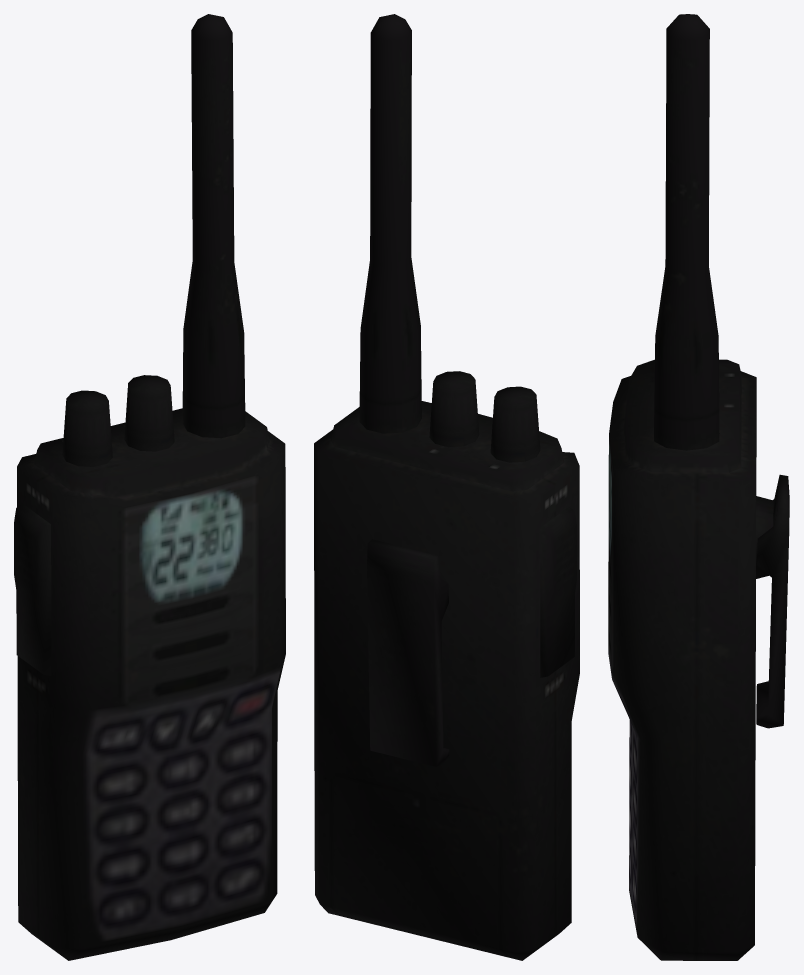
Rendered from Walkie talkie.FBX.
3 renders of one model, left to right at view 1: azimuth 30°, elevation 25°; view 2: azimuth 150°, elevation 25°; view 3: azimuth 270°, elevation 25°, orthographic. The views are drawn at different scales.
Parts seen in each view (by area): view 1: walkie talkie; view 2: walkie talkie; view 3: walkie talkie.
Boxes of the visible parts, box(x1,y1,x2,y2) form: walkie talkie: box(14, 14, 285, 960); walkie talkie: box(314, 14, 579, 960); walkie talkie: box(608, 14, 789, 960).
Size of the model in its own units: 7.53 by 27.54 by 4.89.
Materials: 1 (1 with a texture image).
